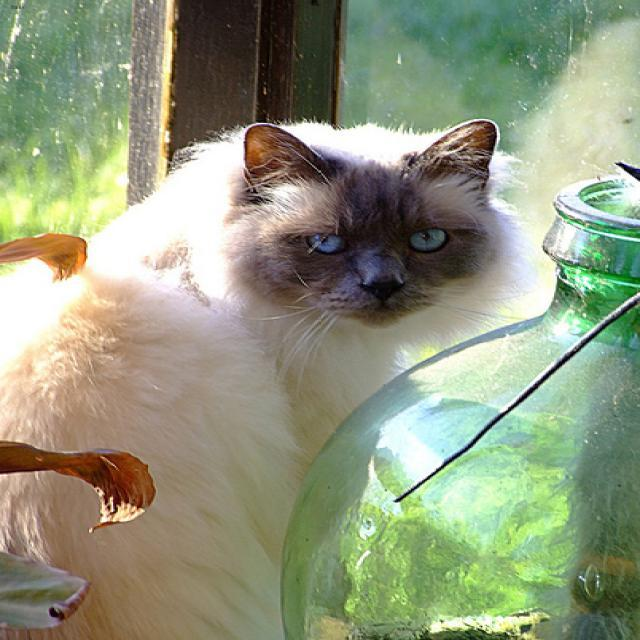Birman: (184, 113, 541, 355)
